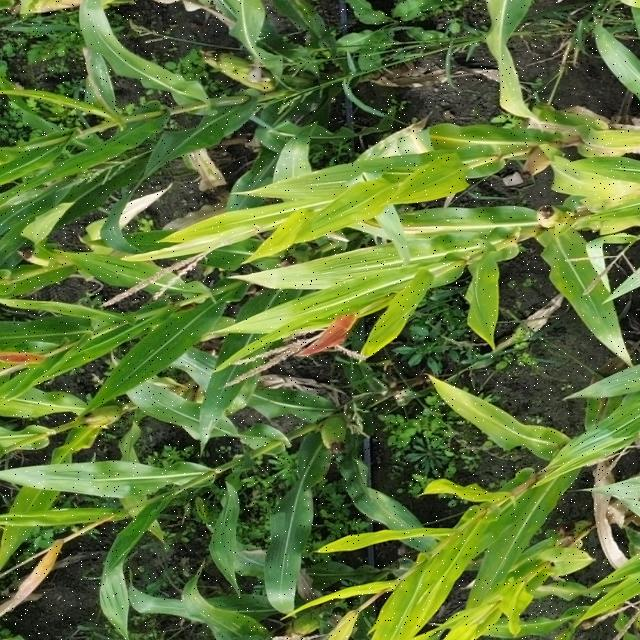northern-leaf-blight: (533, 100, 640, 158), (363, 113, 438, 175), (167, 147, 240, 193)
southern-leaf-blight: (552, 249, 626, 348), (99, 332, 182, 394)
